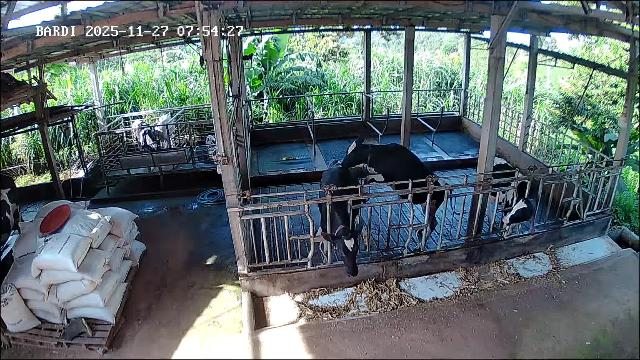mounting: (339, 140, 442, 238)
